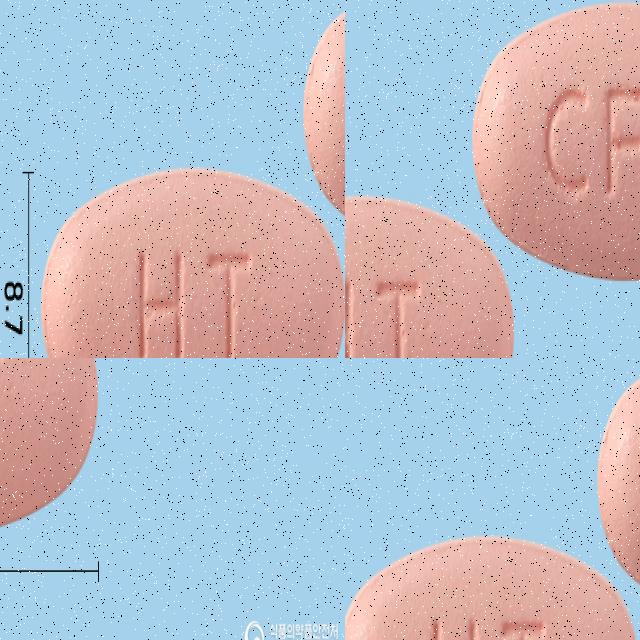Cifxacin: (37, 0, 290, 358)
Claxin: (0, 358, 178, 640)
Crafroxin Tab: (345, 534, 639, 640)
Crema: (477, 19, 640, 282), (345, 211, 497, 358)
